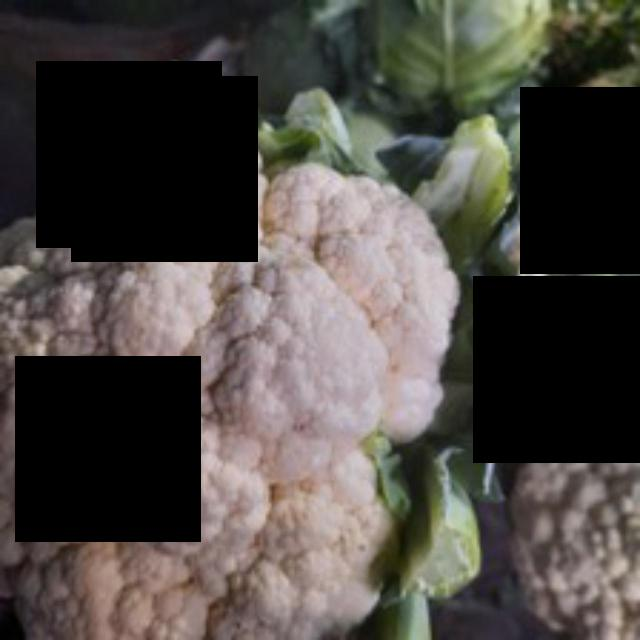cauliflower: (0, 88, 474, 637)
